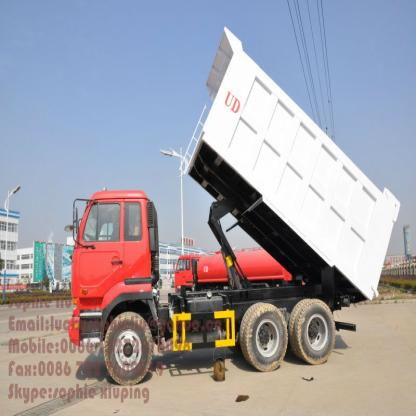dump_truck: (63, 16, 392, 387)
